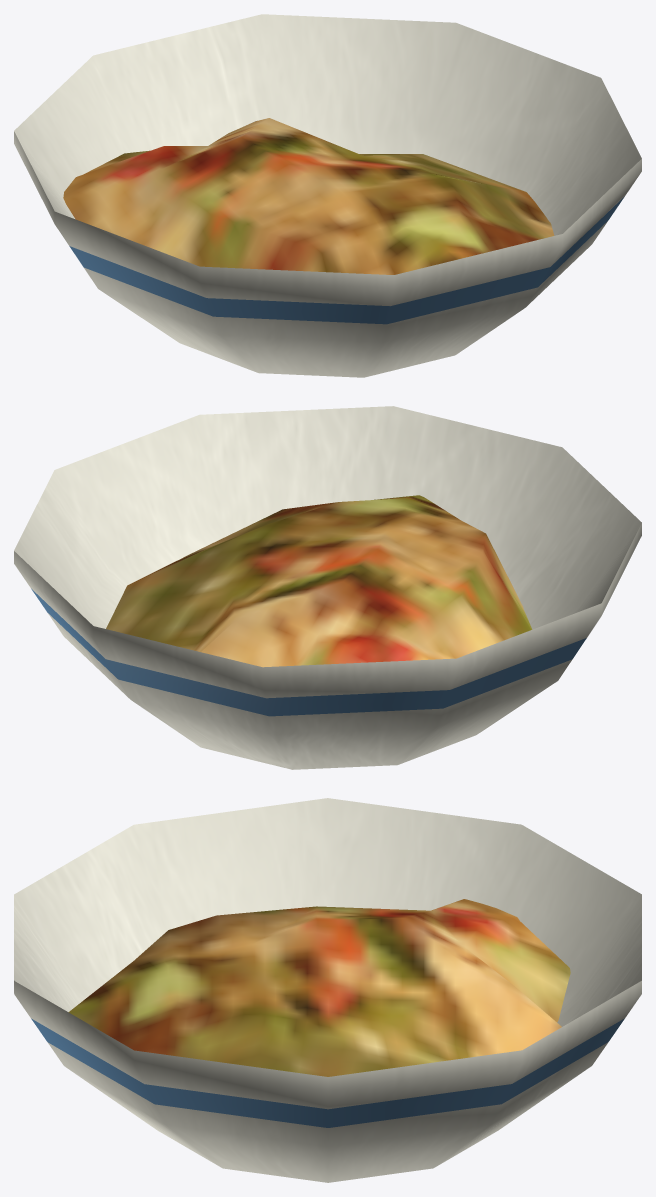
The model's file is dinerfoods03.fbx.
The picture shows the model from 3 angles, top to bottom: view 1: azimuth 30°, elevation 25°; view 2: azimuth 150°, elevation 25°; view 3: azimuth 270°, elevation 25°; orthographic projection. The views are drawn at different scales.
Parts seen in each view (by area): view 1: dinerfoods03; view 2: dinerfoods03; view 3: dinerfoods03.
Boxes of the visible parts, x1,y1,x2,y2 form: dinerfoods03: (14,14,641,377); dinerfoods03: (14,406,641,769); dinerfoods03: (14,798,641,1182).
Bounding box in the file's own units: 19 × 5.39 × 18.08.
